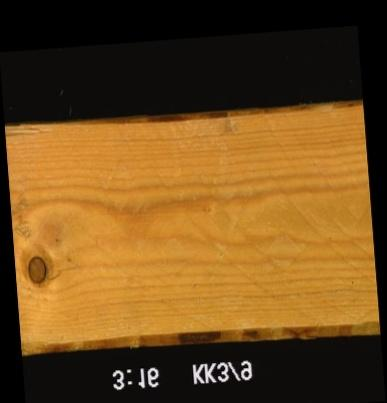dry_knot: (25, 254, 47, 284)
wave: (4, 106, 363, 134), (21, 321, 379, 349)
